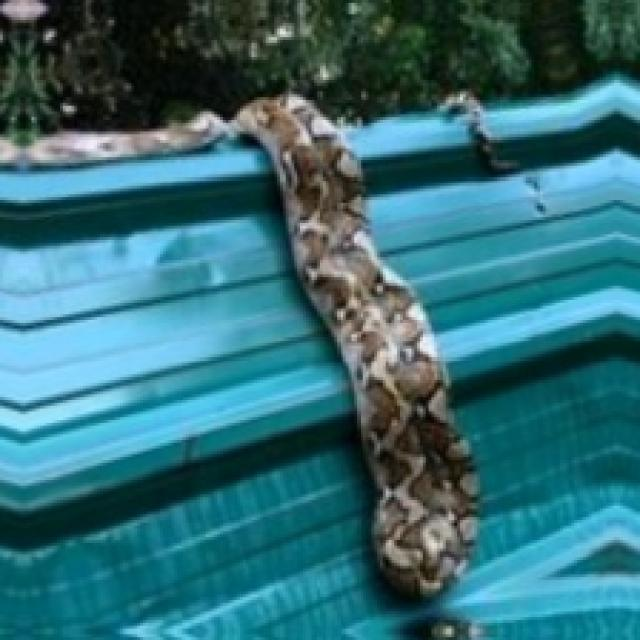reticulated python: (237, 94, 474, 594)
